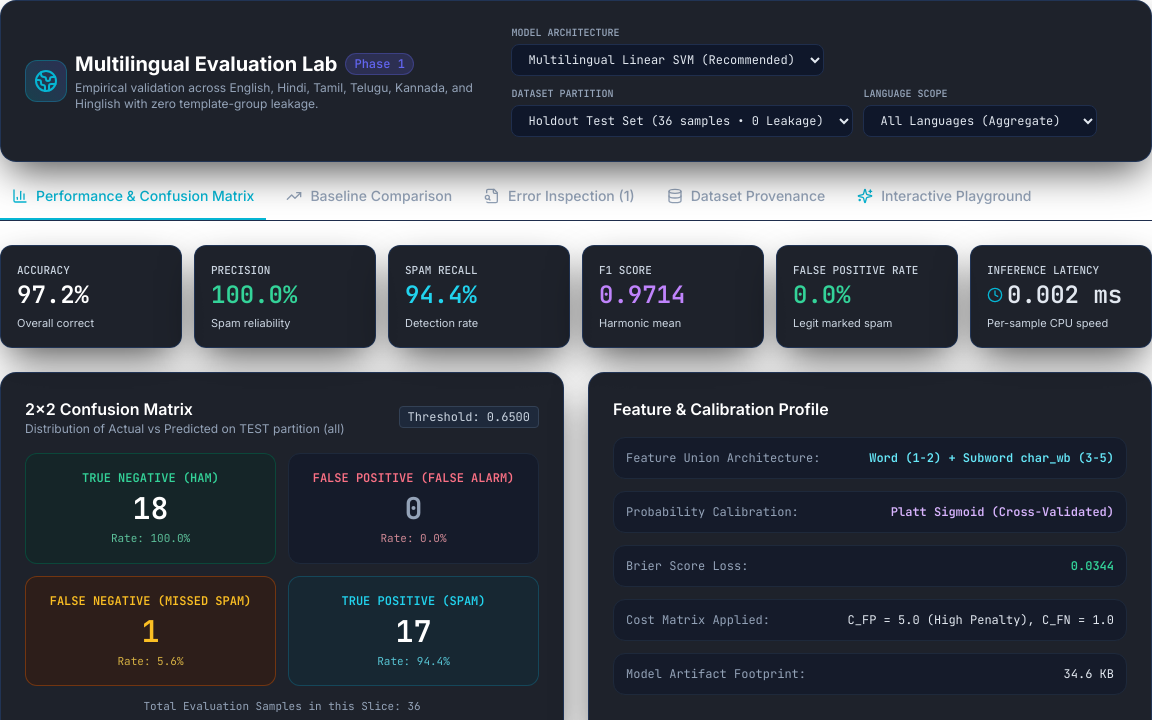
Test: EvaluationLabView Component › allows switching to Dataset Provenance tab and displays zero group overlap guarantee
Expected: the text "97.2%" is shown, [17,278,89,310]
Step 1. Click the button "Dataset Provenance" → (746, 203), box [655,186,837,220]
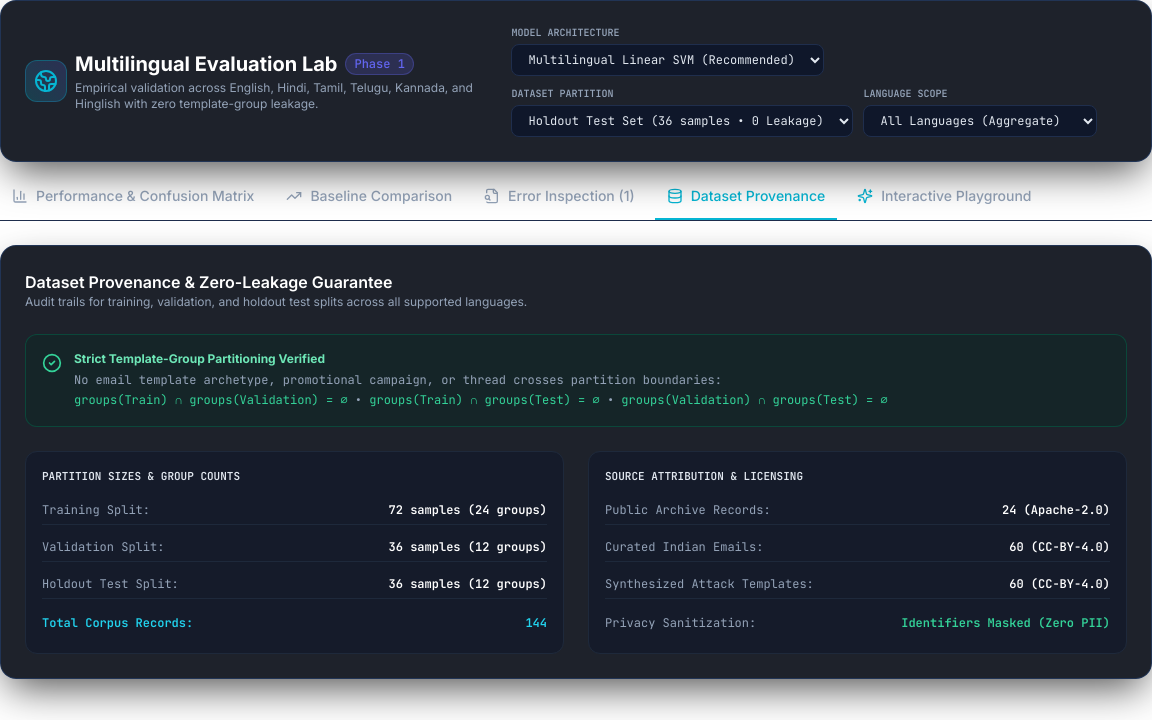
Result: the text "144" is shown at [525,615,547,631]
Result: the text "Strict Template-Group Partitioning Verified" is shown at [74,351,325,366]
